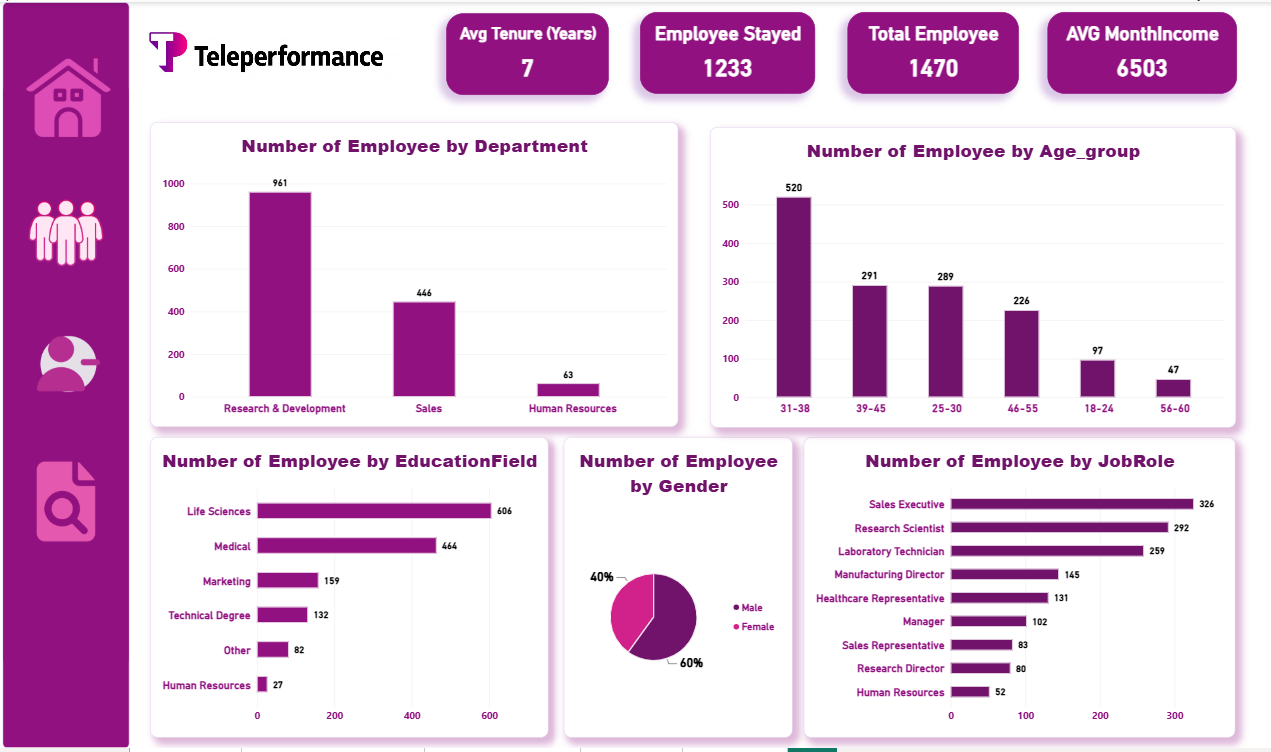

The dashboard page shown, as its layout file describes it:
{"tool":"powerbi","page":{"name":"Employees Analysis","canvas":[1920,1080],"ordinal":1},"visuals":[{"type":"shape","box":[10.5,0,184.2,1080.7],"z":0},{"type":"image","box":[194.7,0,394.7,145.6],"z":1000},{"type":"advanceCardE03760C5AB684758B56AA29F9E6C257B","title":"Avg Tenure (Years)","fields":{"mainMeasure":["Measuers (2).AVG Years AT Company"]},"box":[653.3,16.7,235.2,118.5],"z":2000},{"type":"advanceCardE03760C5AB684758B56AA29F9E6C257B","title":"Employee Stayed","fields":{"mainMeasure":["Measuers (2).Employee Stayed"]},"box":[933.3,15,253.7,118.5],"z":3000},{"type":"advanceCardE03760C5AB684758B56AA29F9E6C257B","title":"AVG MonthIncome","fields":{"mainMeasure":["Measuers (2).AVG MonthlyIncome"]},"box":[1523.3,15,274.1,118.5],"z":4000},{"type":"columnChart","fields":{"Category":["Department.Department"],"Y":["Measuers (2).Number of Employee"]},"box":[225,173.3,765,441.7],"z":5000},{"type":"pieChart","fields":{"Category":["HR-Attrition.Gender"],"Y":["Measuers (2).Number of Employee"]},"box":[824.1,629.6,331.6,435.1],"z":6000},{"type":"barChart","fields":{"Category":["EducationField.EducationField"],"Y":["Measuers (2).Number of Employee"]},"box":[224.6,629.8,577.2,435.1],"z":7000},{"type":"barChart","fields":{"Category":["JobRole.JobRole"],"Y":["Measuers (2).Number of Employee"]},"box":[1171.7,630,625,435],"z":8000},{"type":"lineStackedColumnComboChart","fields":{"Category":["HR-Attrition.Age_group"],"Y":["Measuers (2).Number of Employee"]},"box":[1035,181.7,761.7,435],"z":9000},{"type":"advanceCardE03760C5AB684758B56AA29F9E6C257B","title":"Total Employee ","fields":{"mainMeasure":["Measuers (2).Number of Employee"]},"box":[1233.3,15,248.1,118.5],"z":10000},{"type":"image","box":[23.3,273.3,158.3,121.7],"z":11000},{"type":"image","box":[26.7,78.3,158.3,121.7],"z":12000},{"type":"image","box":[26.7,463.3,158.3,121.7],"z":13000},{"type":"image","box":[23.3,661.7,158.3,121.7],"z":14000}]}

Visuals, with their boxes on the page's 1920x1080 design canvas (x1, y1, x2, y2). These are canvas units, not pixel positions in the 1271x752 screenshot, which may show the page scaled, cropped or inside an application window:
shape: [10, 0, 195, 1081]
image: [195, 0, 589, 146]
"Avg Tenure (Years)" advanceCardE03760C5AB684758B56AA29F9E6C257B: [653, 17, 888, 135]
"Employee Stayed" advanceCardE03760C5AB684758B56AA29F9E6C257B: [933, 15, 1187, 134]
"AVG MonthIncome" advanceCardE03760C5AB684758B56AA29F9E6C257B: [1523, 15, 1797, 134]
columnChart - Department.Department x Measuers (2).Number of Employee: [225, 173, 990, 615]
pieChart - HR-Attrition.Gender x Measuers (2).Number of Employee: [824, 630, 1156, 1065]
barChart - EducationField.EducationField x Measuers (2).Number of Employee: [225, 630, 802, 1065]
barChart - JobRole.JobRole x Measuers (2).Number of Employee: [1172, 630, 1797, 1065]
lineStackedColumnComboChart - HR-Attrition.Age_group x Measuers (2).Number of Employee: [1035, 182, 1797, 617]
"Total Employee " advanceCardE03760C5AB684758B56AA29F9E6C257B: [1233, 15, 1481, 134]
image: [23, 273, 182, 395]
image: [27, 78, 185, 200]
image: [27, 463, 185, 585]
image: [23, 662, 182, 783]
